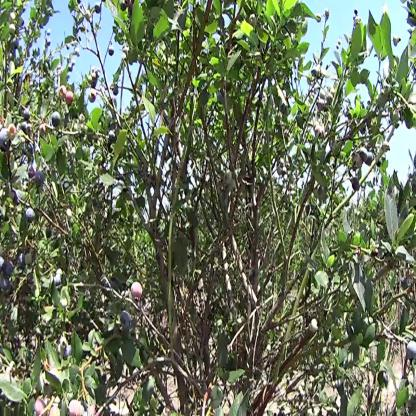intermediate: (59, 86, 75, 105), (132, 282, 143, 305), (70, 400, 84, 416), (35, 397, 46, 416)
mature: (1, 260, 14, 294), (407, 340, 416, 366), (121, 313, 132, 332), (2, 131, 11, 153), (361, 149, 374, 164), (37, 171, 47, 188), (26, 209, 36, 225), (52, 110, 61, 125)
young: (310, 319, 318, 337), (9, 125, 17, 140), (90, 89, 98, 104), (51, 406, 61, 416)
